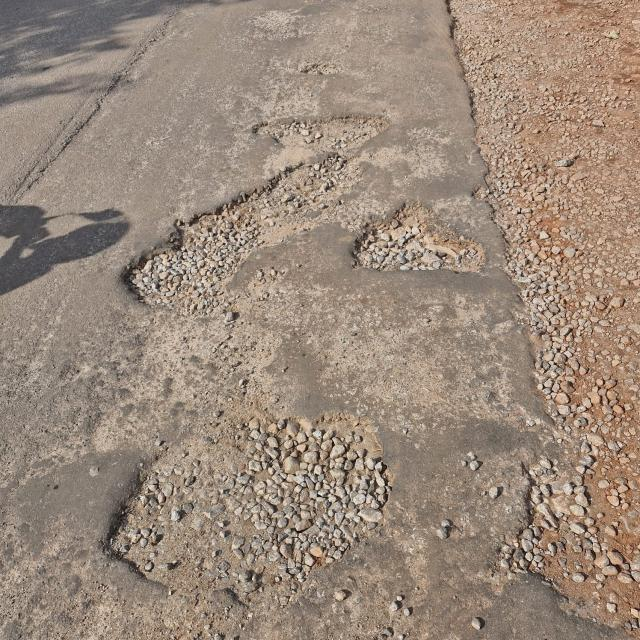pothole: (92, 394, 402, 606), (119, 171, 353, 343), (347, 192, 489, 286), (240, 106, 398, 150), (0, 132, 64, 222), (63, 62, 142, 130), (124, 0, 192, 71)
